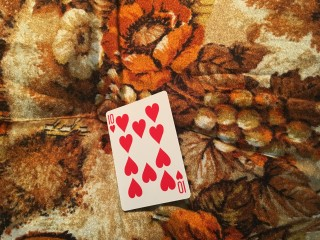TenOfHearts: (106, 90, 190, 211)
